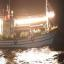fishing boat: (0, 0, 59, 51)
